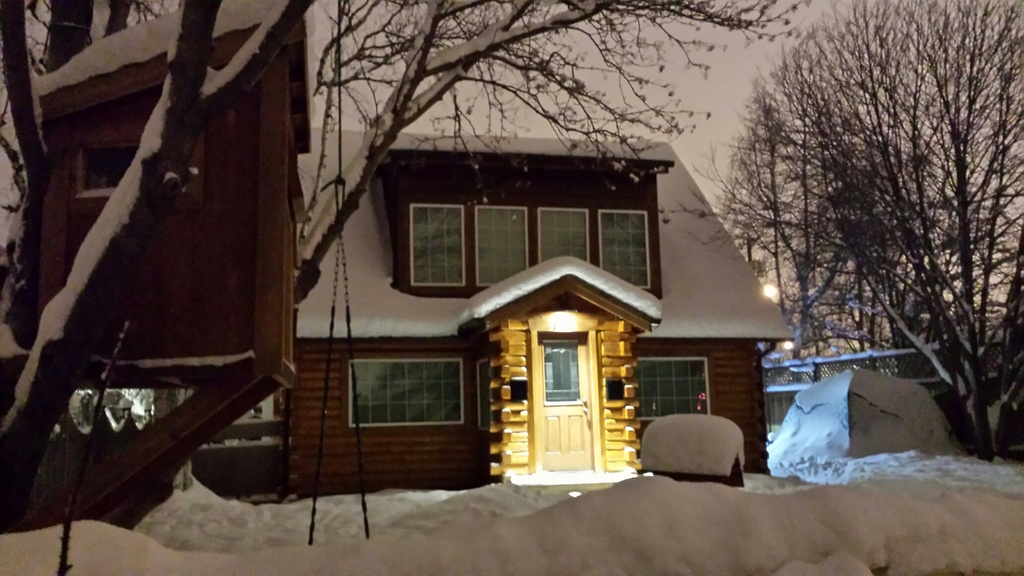door: (534, 319, 601, 465)
